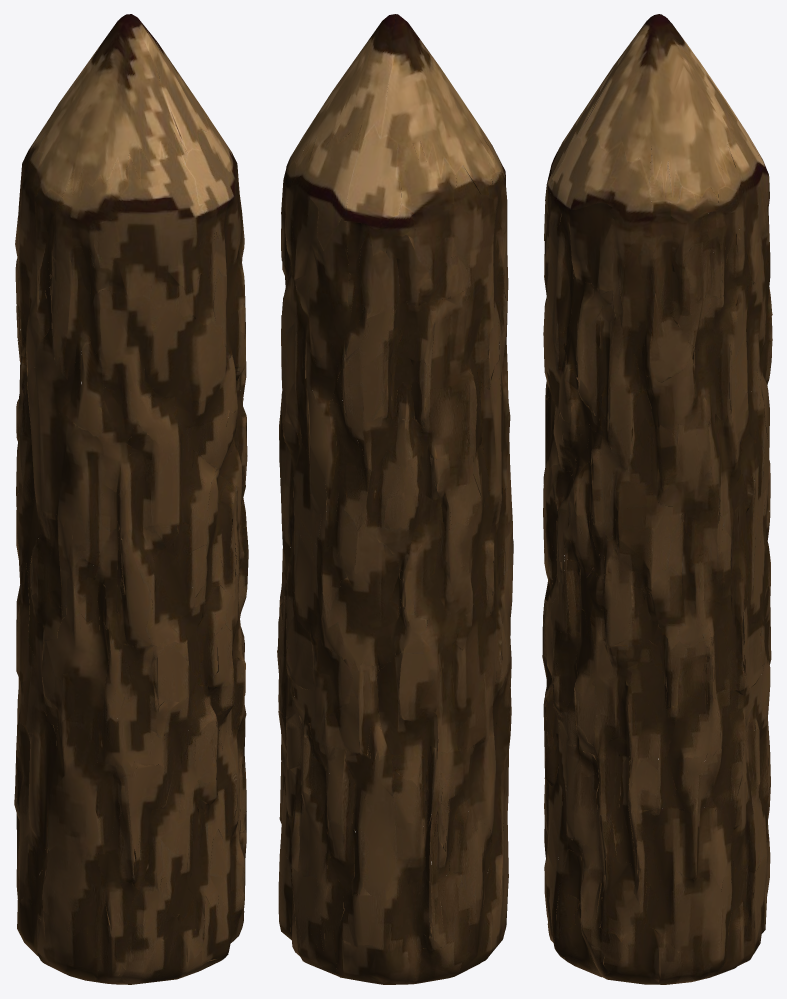
Rendered from palisade_1.glb.
3 renders of one model, left to right at view 1: azimuth 30°, elevation 25°; view 2: azimuth 150°, elevation 25°; view 3: azimuth 270°, elevation 25°, orthographic.
Parts seen in each view (by area): view 1: Mesh_0; view 2: Mesh_0; view 3: Mesh_0.
Part boxes in pixels (x1,y1,x2,y2): Mesh_0: (14,14,248,984); Mesh_0: (277,14,513,984); Mesh_0: (542,14,772,984).
Size of the model in its own units: 0.5152 by 2.28 by 0.5107.
Materials: 1 (1 with a texture image).
